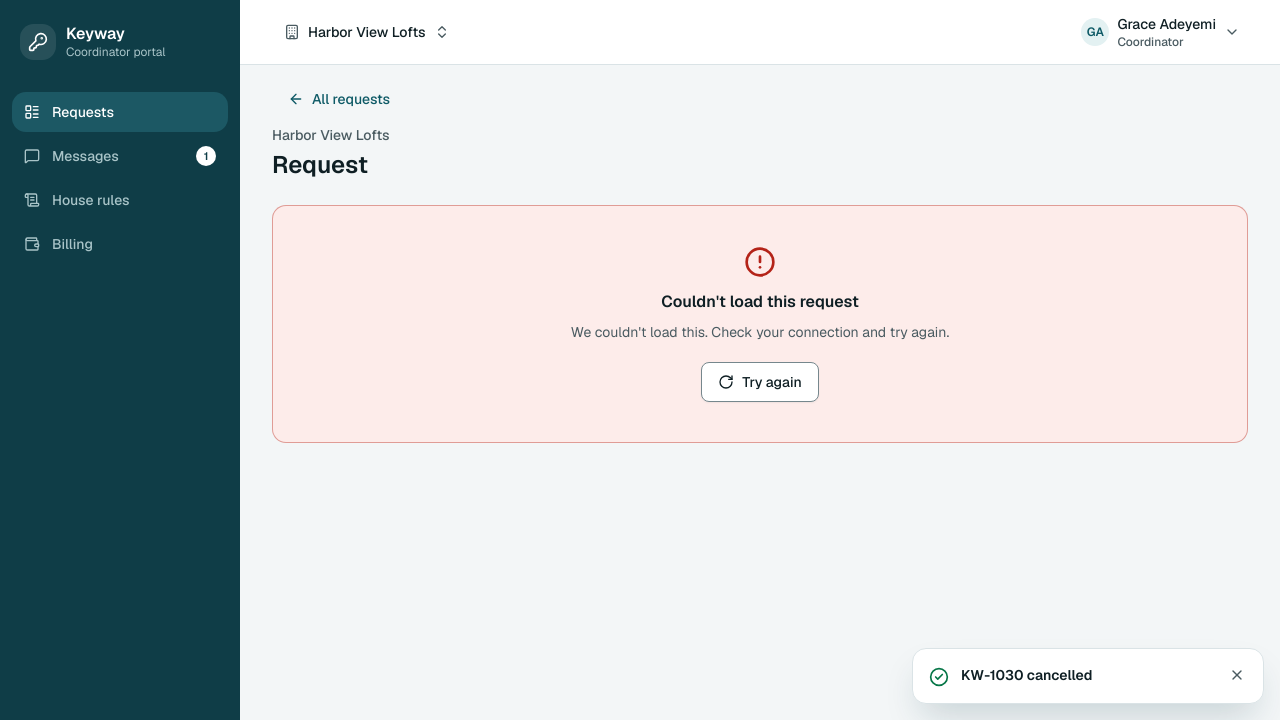
RequestDetailView › shows an error with retry
expect the message shows "Couldn't load this request": met, box [661, 291, 859, 312]
Click the button "Try again" at (760, 382), box [701, 362, 819, 402]
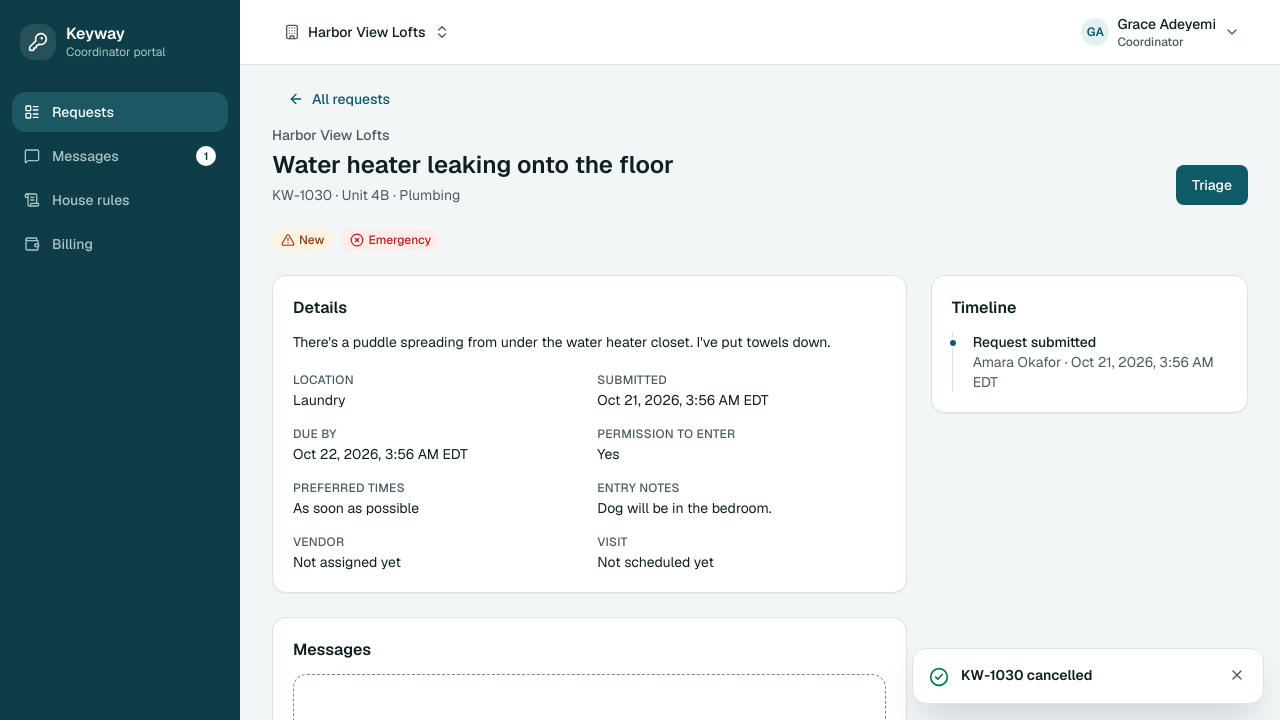
expect the heading "Water heater leaking onto the floor" is shown: met, box [272, 149, 674, 181]
